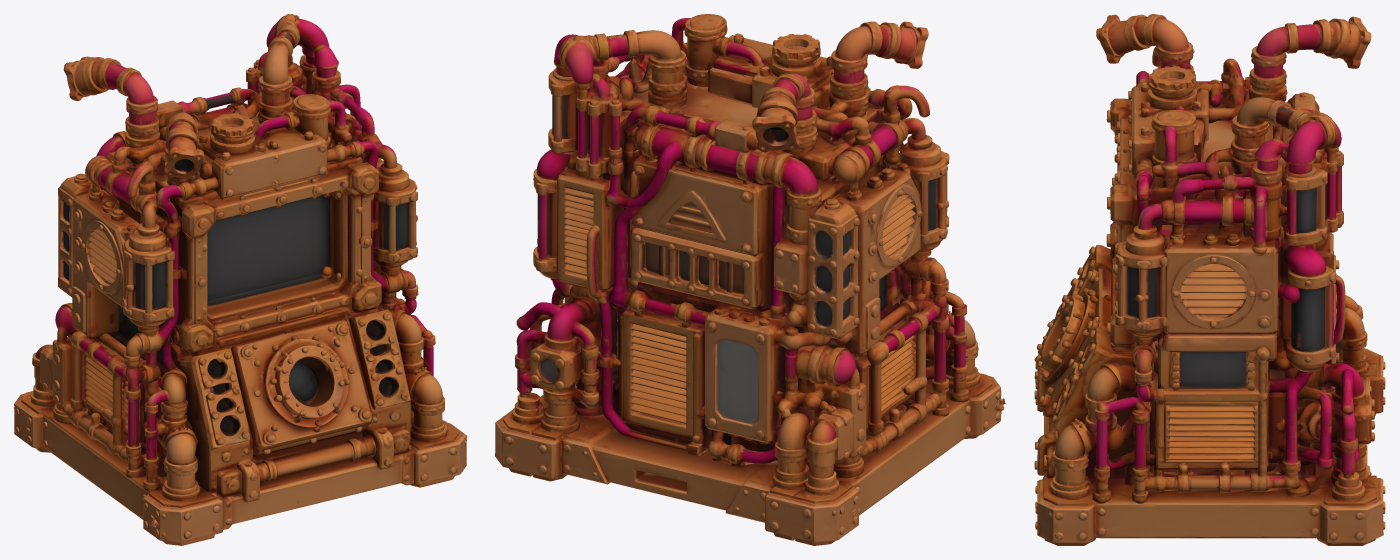
The picture shows the model from 3 angles, left to right: view 1: azimuth 30°, elevation 25°; view 2: azimuth 150°, elevation 25°; view 3: azimuth 270°, elevation 25°; orthographic projection. The views are drawn at different scales.
Parts seen in each view (by area): view 1: texture_pbr_v128; view 2: texture_pbr_v128; view 3: texture_pbr_v128.
Part boxes in pixels (<box>): texture_pbr_v128: <box>14,14,466,545</box>; texture_pbr_v128: <box>495,14,1005,545</box>; texture_pbr_v128: <box>1034,14,1385,545</box>.
Bounding box in the file's own units: 0.7104 × 0.8245 × 0.6388.
1 material, 1 textured.
